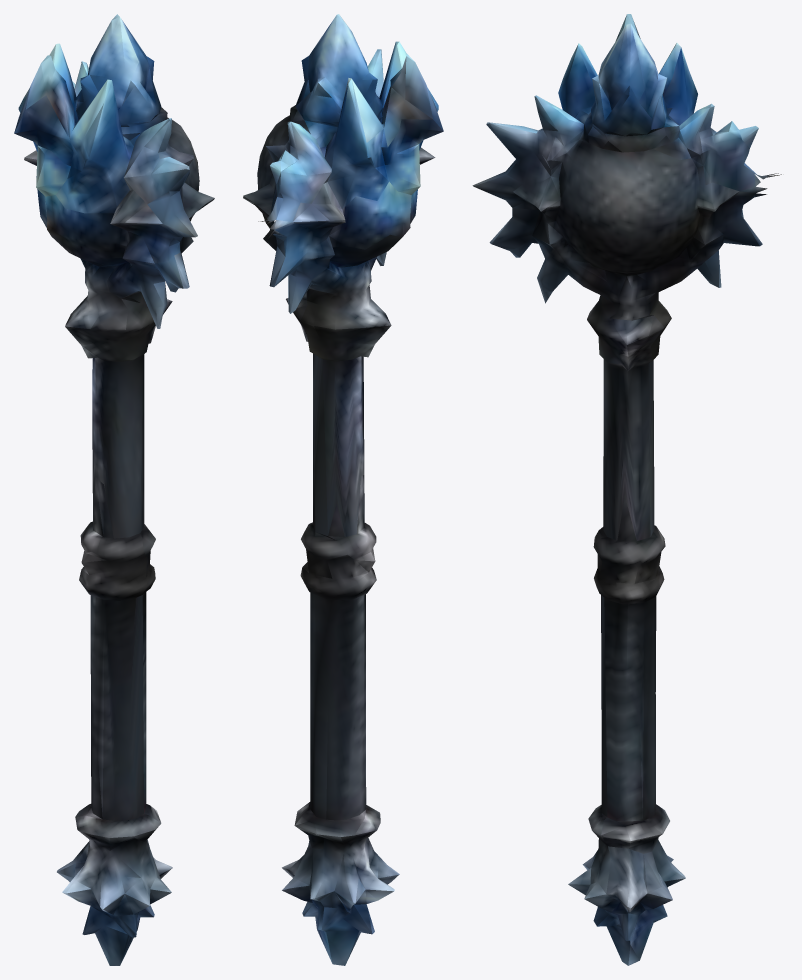
Rendered from icecrystal_mace.glb.
3 renders of one model, left to right at view 1: azimuth 30°, elevation 25°; view 2: azimuth 150°, elevation 25°; view 3: azimuth 270°, elevation 25°, orthographic.
Parts seen in each view (by area): view 1: icecrystal_mace; view 2: icecrystal_mace; view 3: icecrystal_mace.
Part boxes in pixels (x1=…): icecrystal_mace: x1=14, y1=14, x2=214, y2=965; icecrystal_mace: x1=243, y1=14, x2=443, y2=965; icecrystal_mace: x1=472, y1=14, x2=781, y2=965.
Bounding box in the file's own units: 0.1437 × 0.7407 × 0.2245.
Materials: 1 (1 with a texture image).
